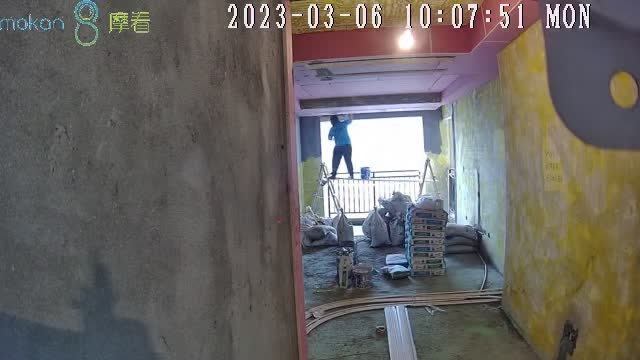people: (327, 116, 355, 179)
window: (319, 117, 426, 219)
